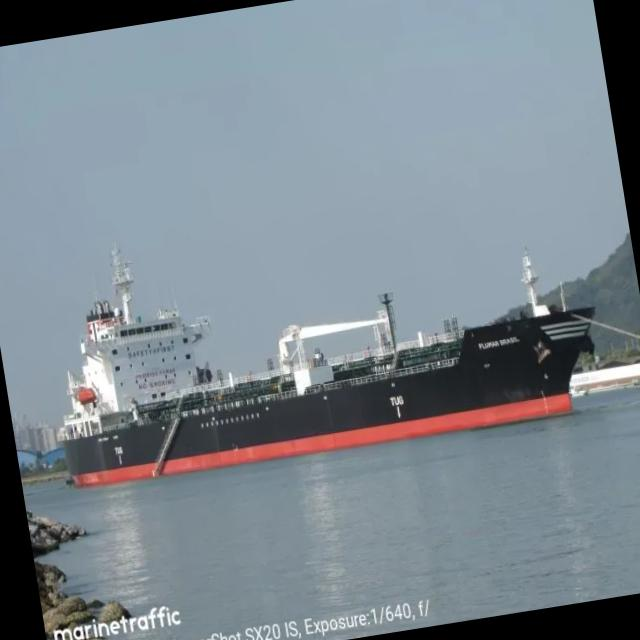Tanker: (64, 250, 593, 485)
